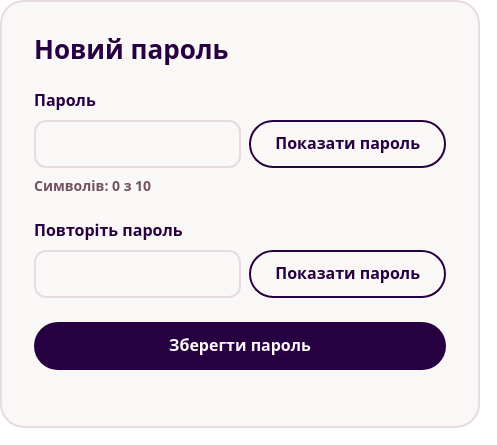
the reset page › done: every device signed out, and the way to sign in
Type "ялинка-під-вікном" into the password field labelled "Пароль" at (138, 144), box [34,120,241,168]
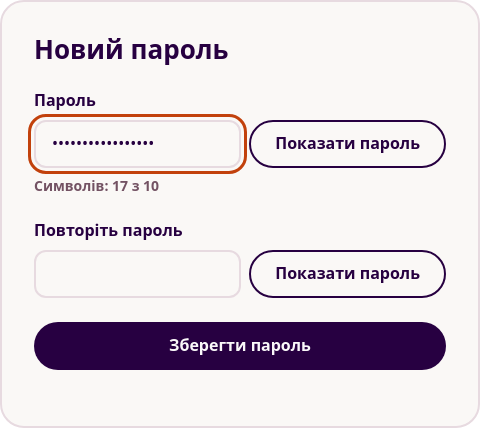
Type "ялинка-під-вікном" into the password field labelled "Повторіть пароль" at (138, 274), box [34,250,241,298]
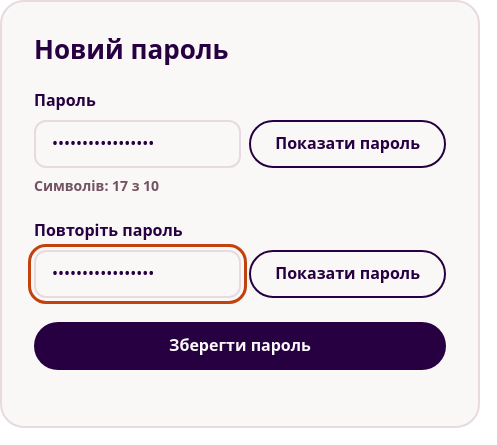
Click the button "Зберегти пароль" at (240, 346), box [34,322,446,370]
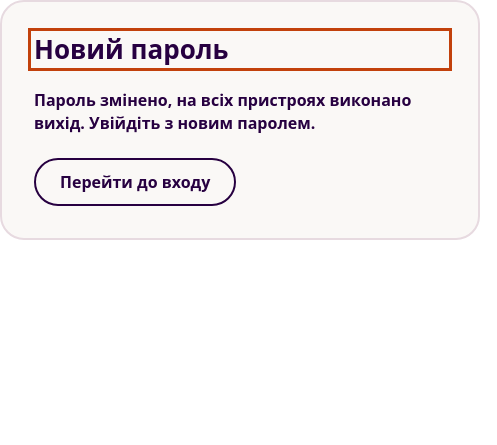
expect the text "Пароль змінено, на всіх пристроях виконано вихід. Увійдіть з новим паролем." is shown: met, box [34,89,446,134]
